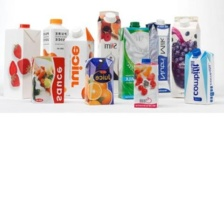carton: (2, 22, 40, 101), (169, 10, 201, 99), (116, 19, 150, 99), (62, 23, 94, 99), (144, 16, 172, 95), (182, 48, 217, 106), (28, 52, 67, 103), (95, 8, 121, 80), (83, 55, 114, 108), (132, 57, 159, 111), (41, 14, 70, 59)
